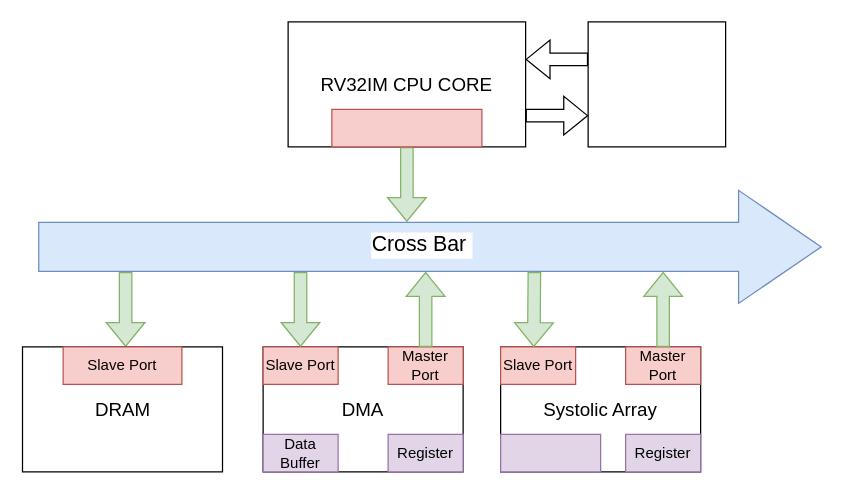
Some shapes in this 843 by 494 pixel diagram are drawn without their labels. Each missing label, with the centre of its shape:
Buffer(Sram): the point at 550,452
CFU (Custom Fusion Unit): the point at 656,84
Mater Port: the point at 406,127
